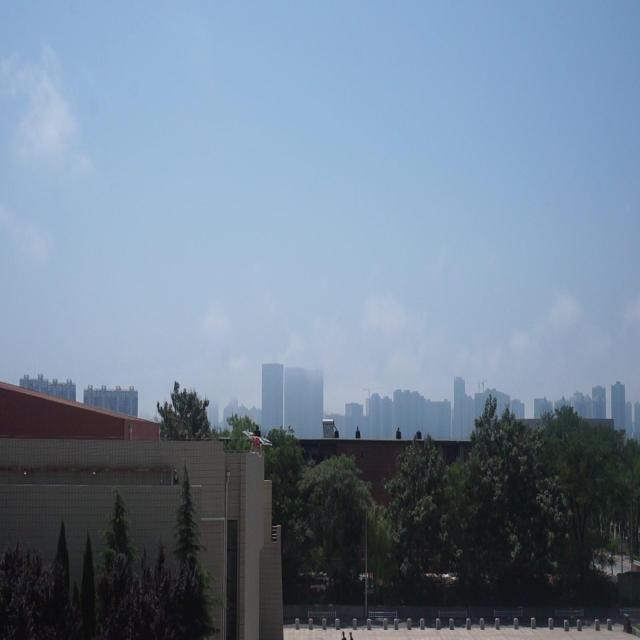drone: (242, 424, 274, 462)
